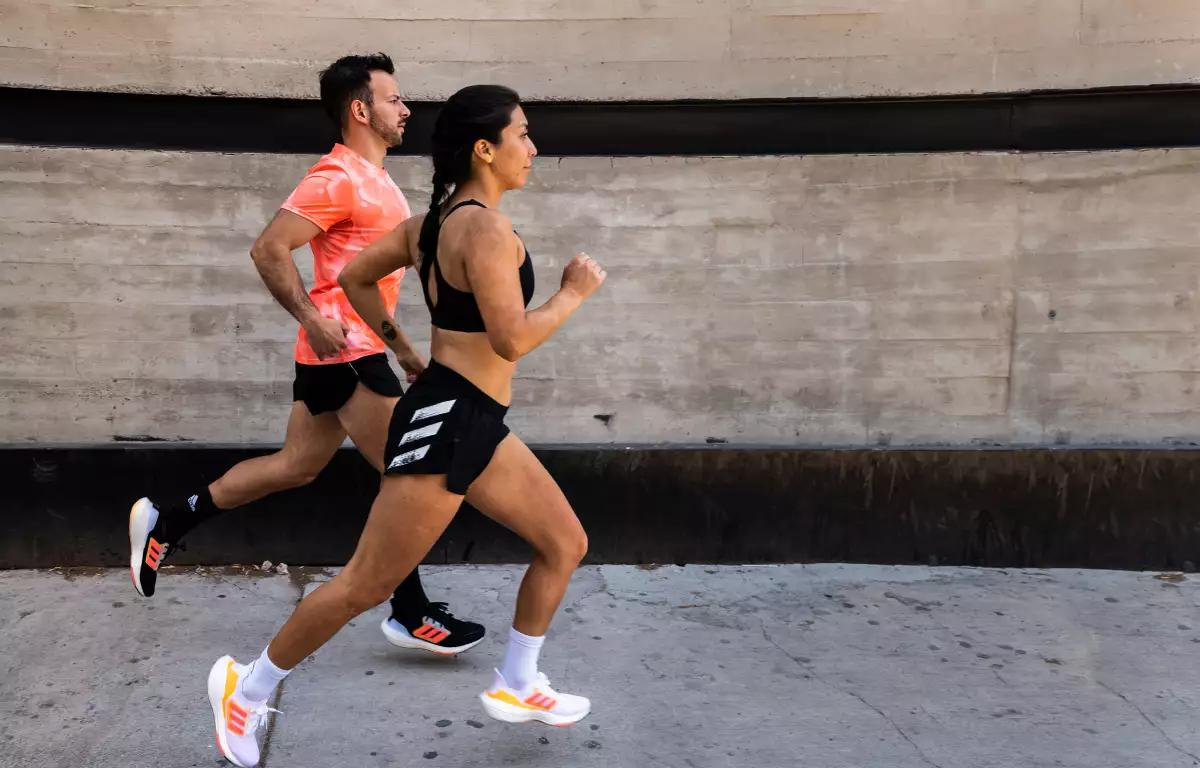adidas logo: (218, 684, 259, 750), (403, 610, 469, 651), (517, 680, 573, 720), (133, 528, 170, 588)
